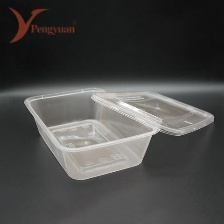plastic_box: (16, 78, 219, 185)
